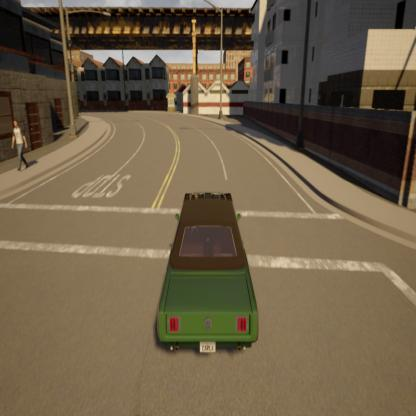Cars: (153, 183, 261, 364)
Pedestrian: (8, 118, 37, 178)
